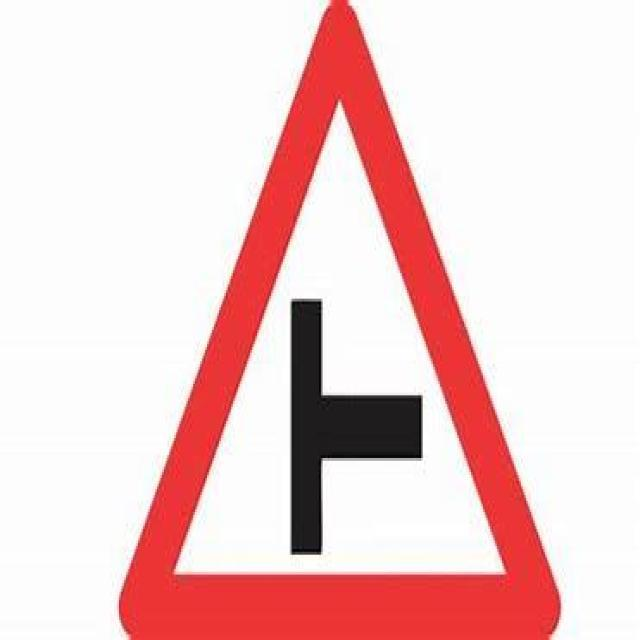side road right: (119, 24, 560, 627)
